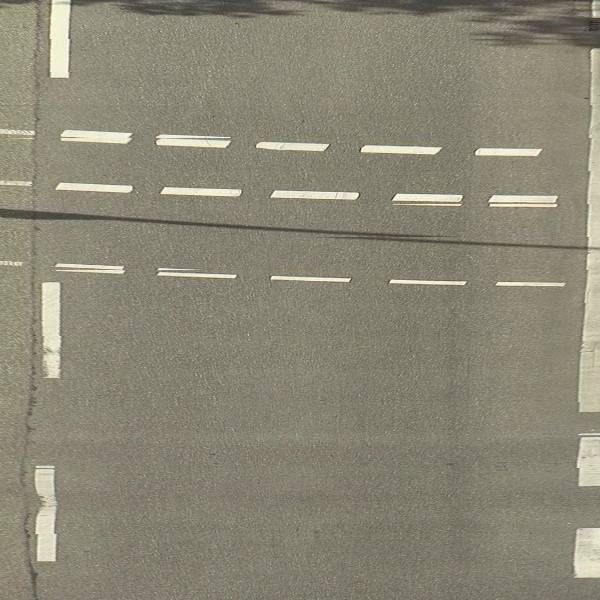road_damage: (15, 358, 38, 590)
